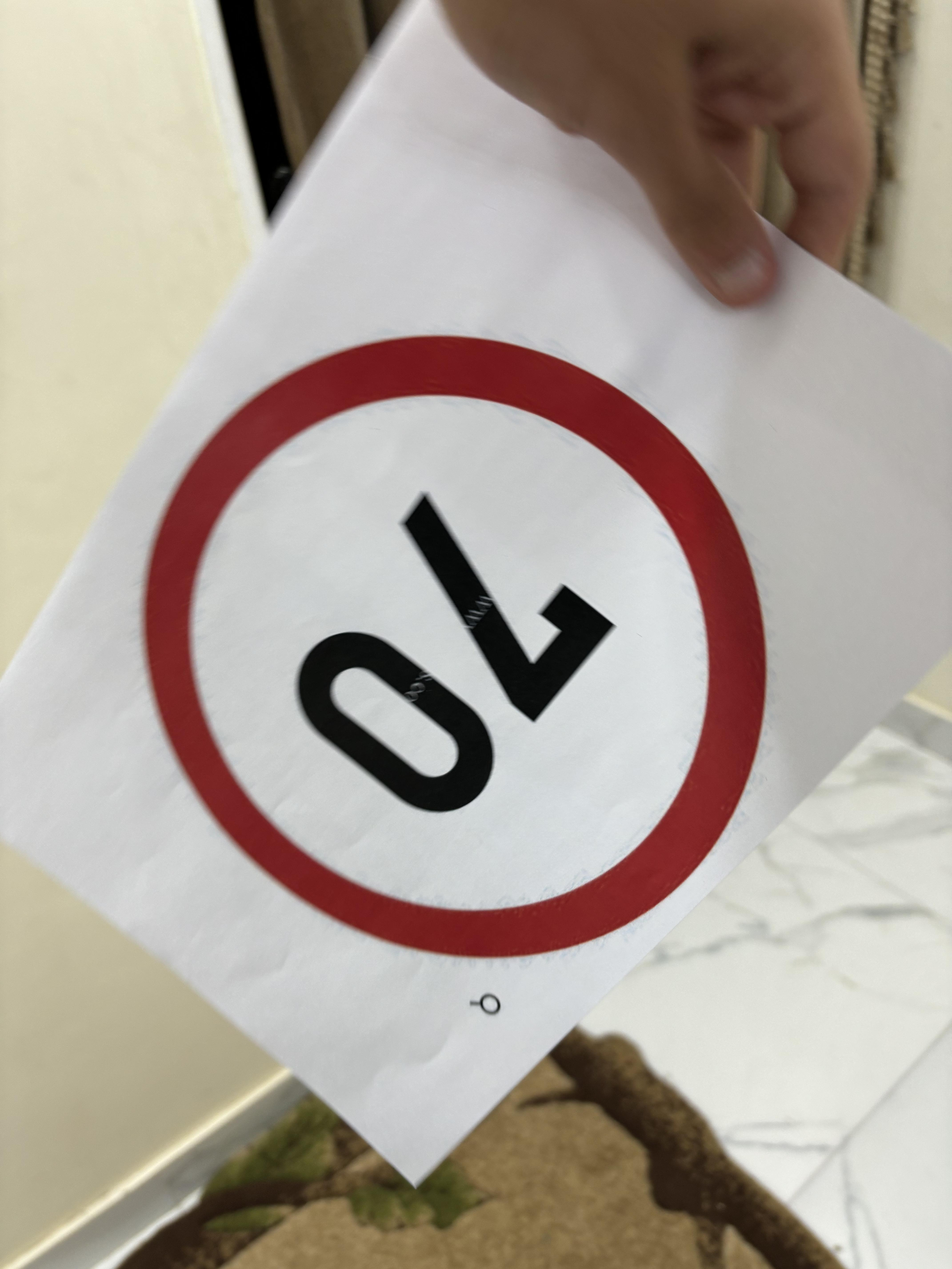70-Speed: (136, 329, 763, 968)
